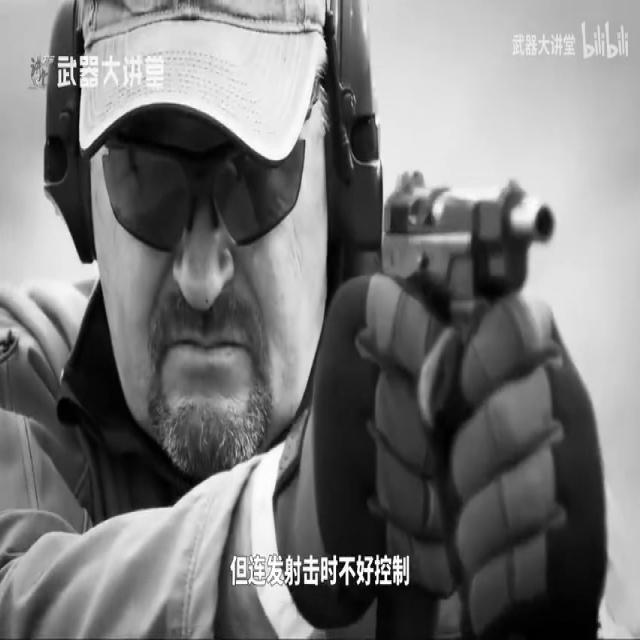Hand-Gun: (375, 160, 569, 375)
